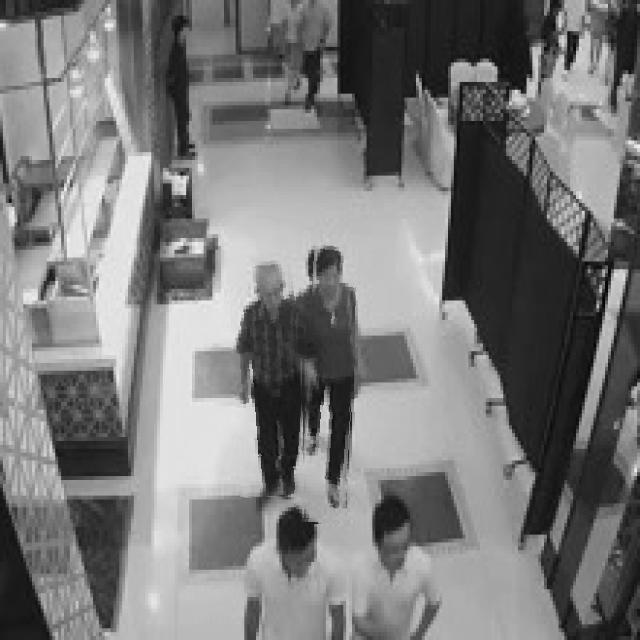normal: (232, 253, 306, 497), (300, 242, 355, 524)
